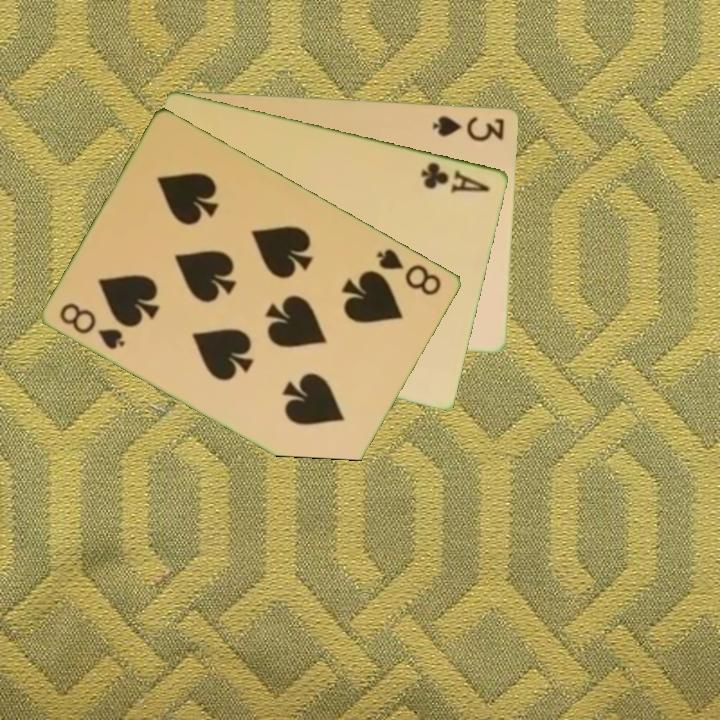3s: (429, 112, 508, 144)
8s: (56, 298, 129, 353), (373, 244, 445, 299)
Ac: (418, 158, 494, 196)
